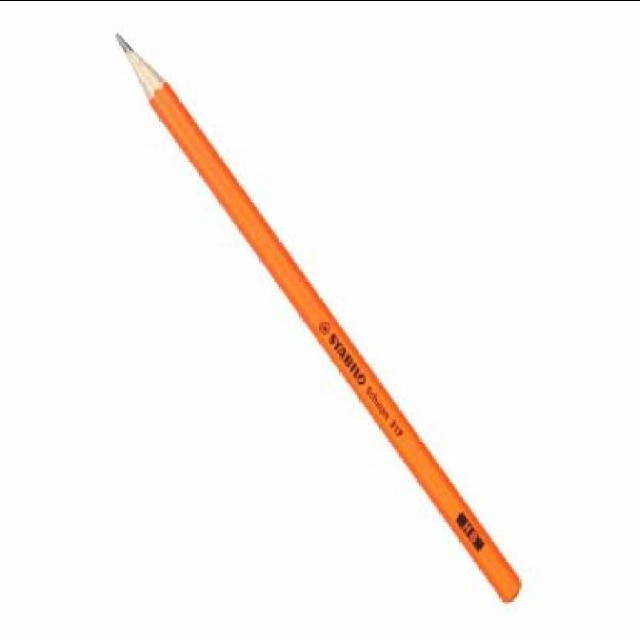pencil: (103, 20, 183, 117)
